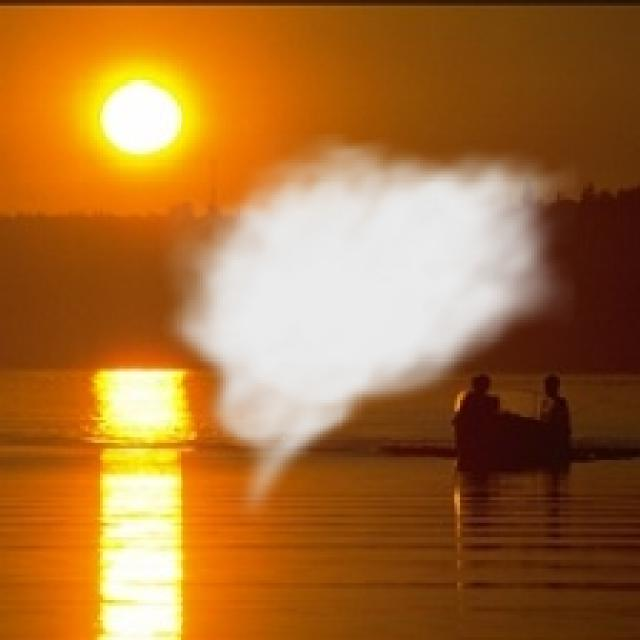smoke: (157, 131, 580, 523)
